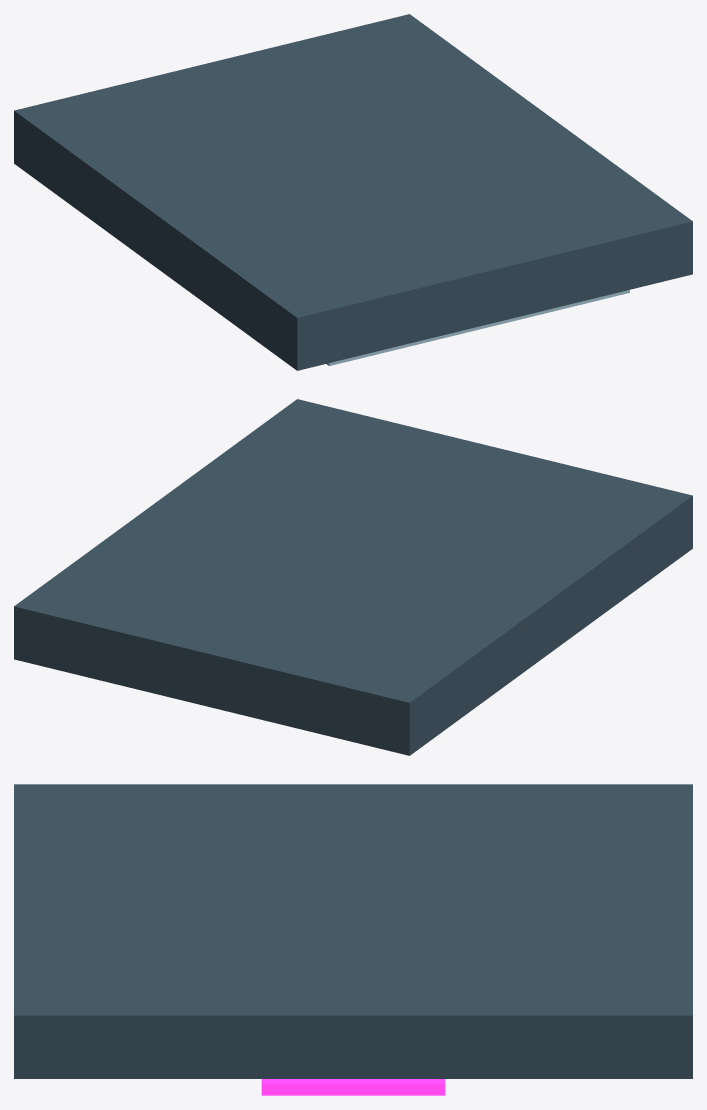
The model's file is industrial-door.glb.
The picture shows the model from 3 angles, top to bottom: view 1: azimuth 30°, elevation 25°; view 2: azimuth 150°, elevation 25°; view 3: azimuth 270°, elevation 25°; orthographic projection. The views are drawn at different scales.
Parts seen in each view (by area): view 1: Door Frame, Door Slab; view 2: Door Frame; view 3: Door Frame, Door Status Strip.
Part boxes in pixels (<box>): Door Frame: <box>14,14,692,370</box>; Door Slab: <box>326,290,629,365</box>; Door Frame: <box>14,399,692,755</box>; Door Frame: <box>14,784,692,1078</box>; Door Status Strip: <box>261,1079,445,1095</box>.
Size of the model in its own units: 2.5 by 0.49 by 3.1.
